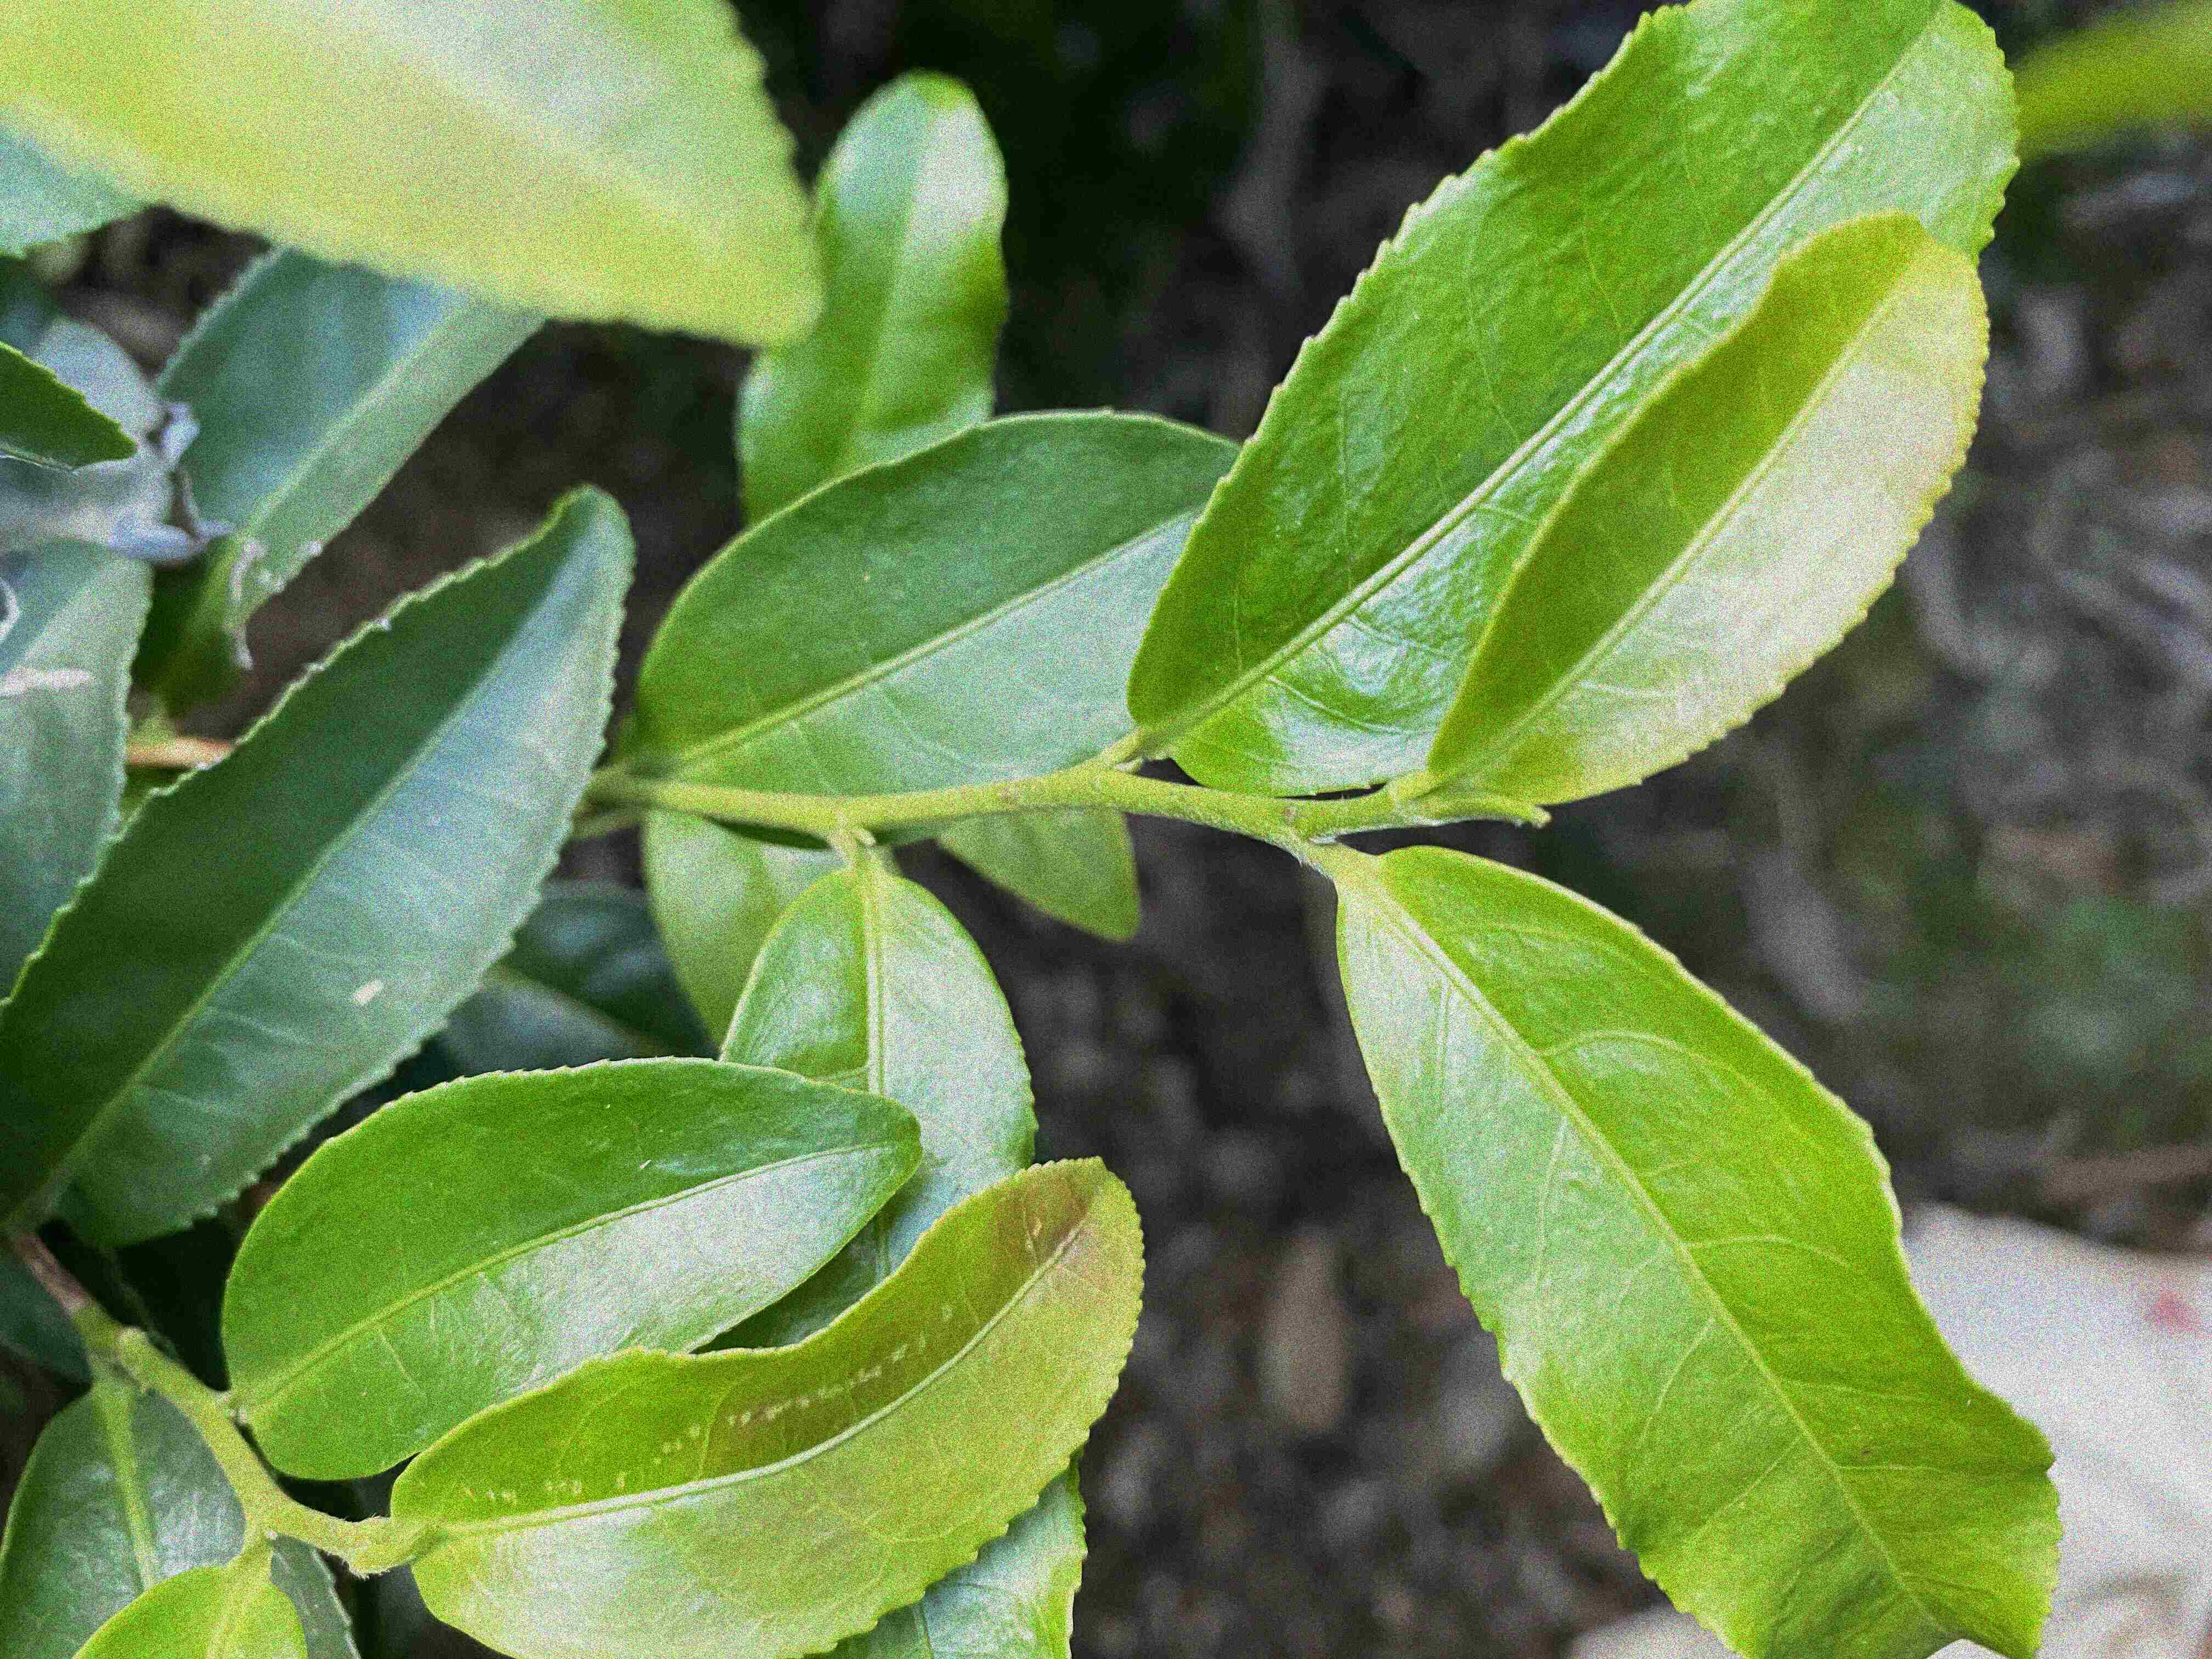healthy: (1125, 0, 2020, 803), (1332, 840, 2067, 1657), (1432, 211, 1994, 807), (218, 1054, 921, 1481)
tanju_low: (12, 481, 636, 1249), (390, 1157, 1150, 1657)
